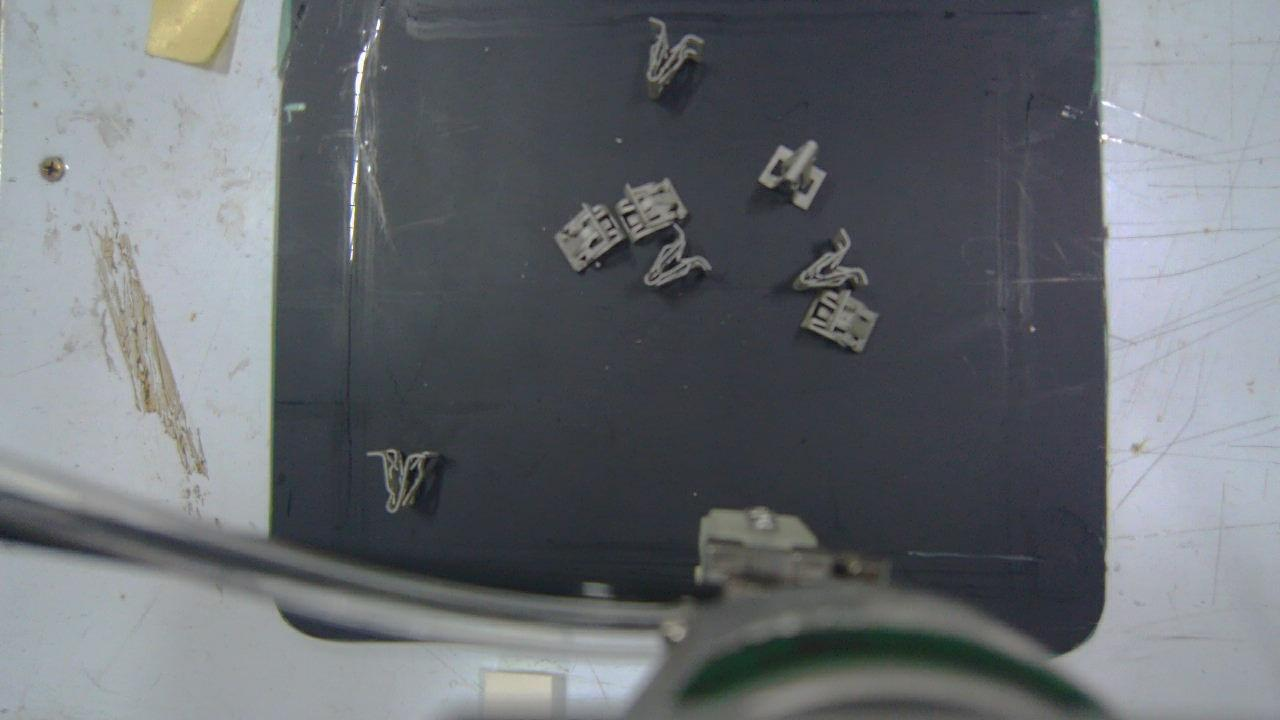ng: (553, 203, 626, 272), (803, 290, 881, 351), (792, 227, 867, 290), (645, 18, 704, 97), (617, 177, 686, 242), (367, 452, 437, 513), (646, 223, 713, 284)
pass: (759, 139, 828, 209)
